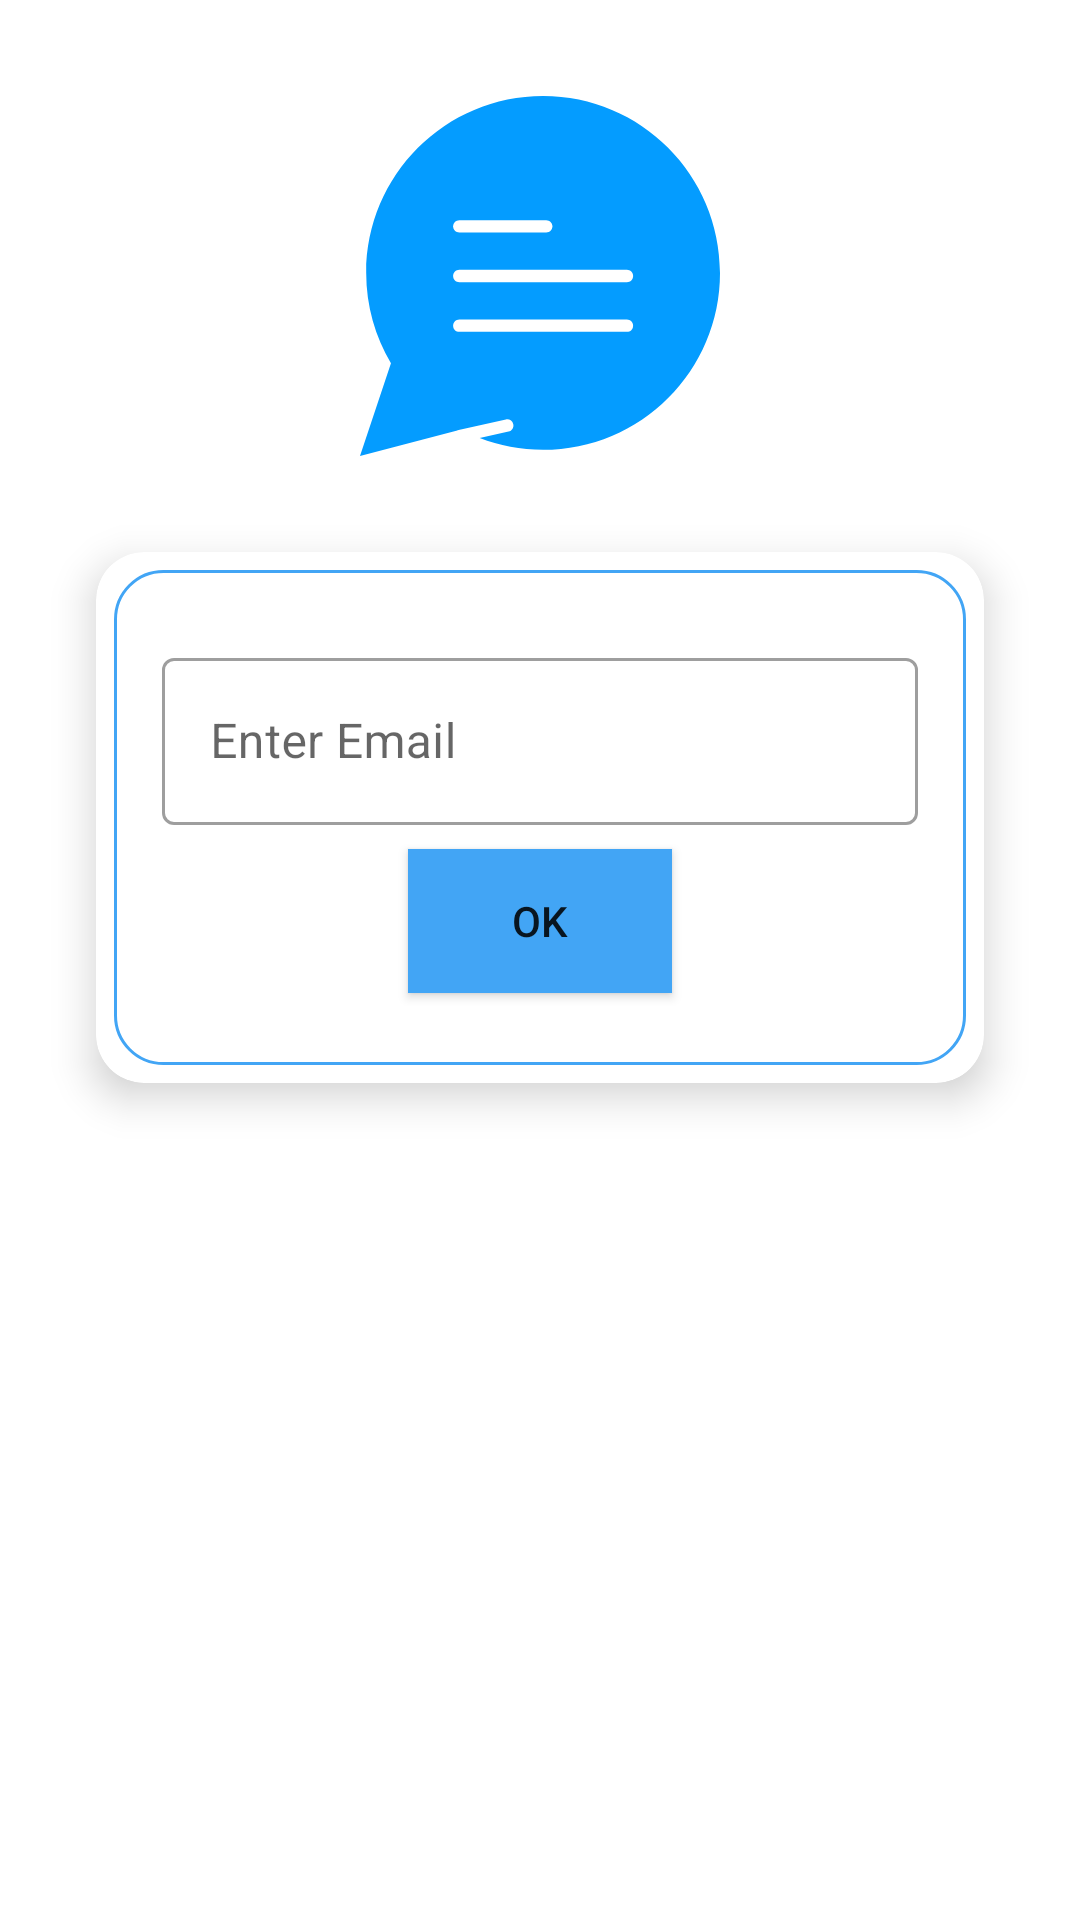

Point at icon controls on the screen. Image size 1080×1920, points as (x,y).
chat: (540,276)
